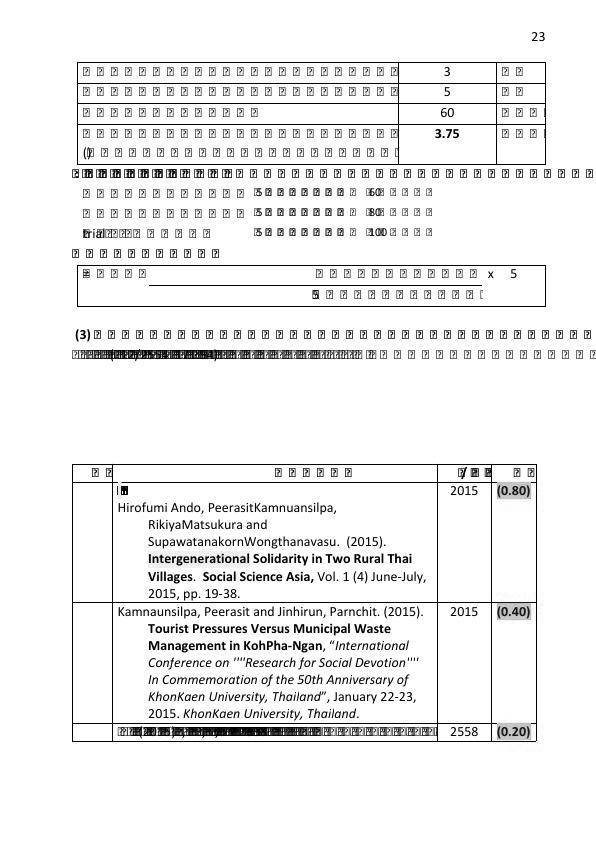table: (66, 460, 544, 748), (72, 58, 549, 167), (72, 264, 550, 309)
text: (67, 166, 594, 262), (68, 325, 590, 369)
